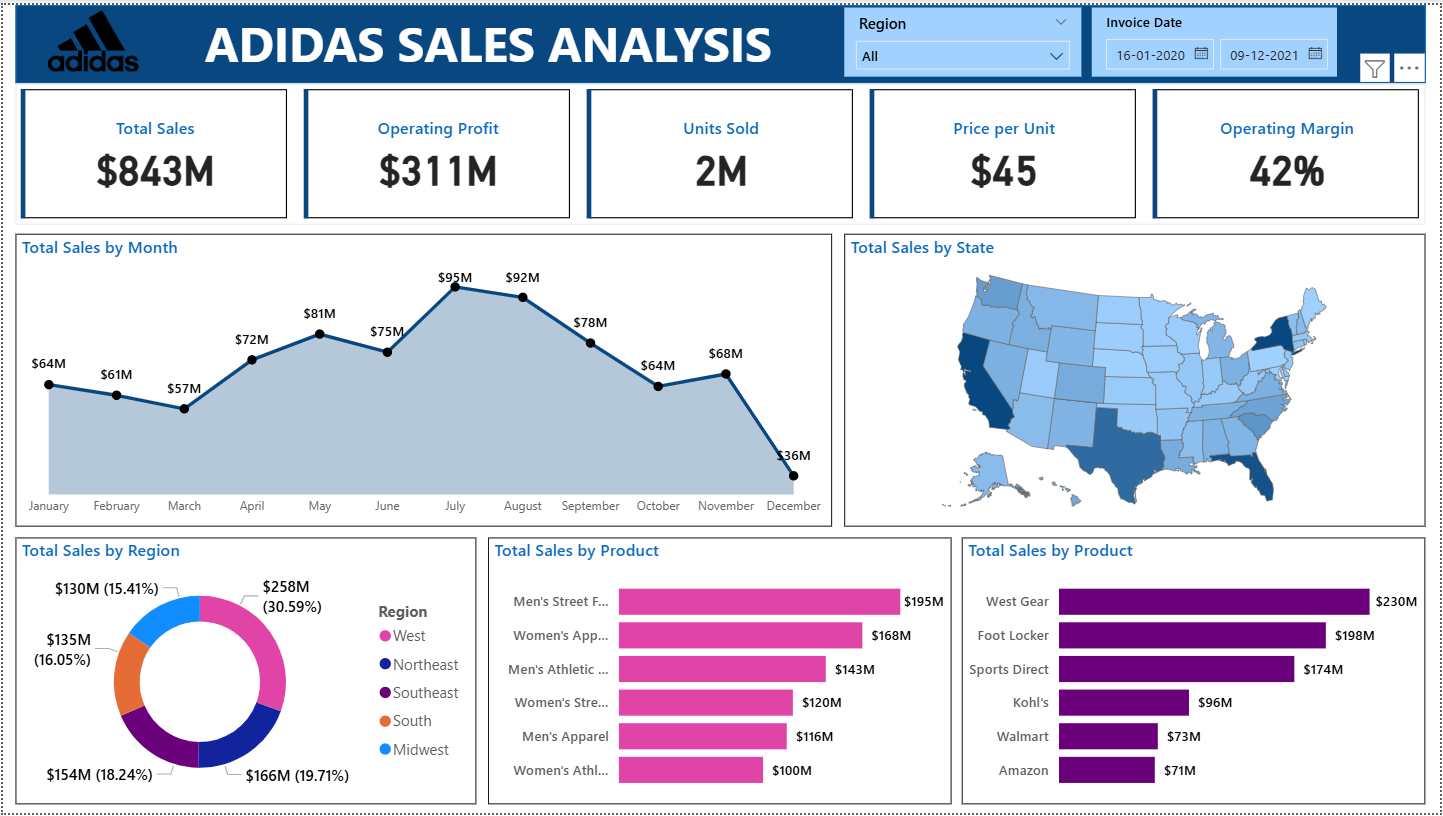

Layout of this report page (visuals, bound fields, positions):
{"tool":"powerbi","page":{"name":"Page 1","canvas":[1280,720],"ordinal":0},"visuals":[{"type":"shape","box":[10.9,0,1255.9,70],"z":0},{"type":"textbox","box":[170.1,0,523.6,67.6],"z":1000},{"type":"cardVisual","fields":{"Data":["Sum(Data Sales Adidas.Total Sales)","Sum(Data Sales Adidas.Operating Profit)","Sum(Data Sales Adidas.Units Sold)","Avg(Data Sales Adidas.Price per Unit)","Avg(Data Sales Adidas.Operating Margin)"]},"box":[10.9,70,1255.9,125.5],"z":2000},{"type":"areaChart","title":"Total Sales by Month","fields":{"Category":["Data Sales Adidas.Invoice Date.Variation.Date Hierarchy.Month"],"Y":["Sum(Data Sales Adidas.Total Sales)"]},"box":[10.9,203.9,727.5,260.6],"z":3000},{"type":"shapeMap","title":"Total Sales by State","fields":{"Category":["Data Sales Adidas.State"],"Value":["Sum(Data Sales Adidas.Total Sales)"]},"box":[749.2,203.9,517.6,260.6],"z":4000},{"type":"donutChart","title":"Total Sales by Region","fields":{"Category":["Data Sales Adidas.Region"],"Y":["Sum(Data Sales Adidas.Total Sales)"]},"box":[10.9,474.1,410.2,237.7],"z":5000},{"type":"barChart","title":"Total Sales by Product","fields":{"Category":["Data Sales Adidas.Product"],"Y":["Sum(Data Sales Adidas.Total Sales)"]},"box":[431.9,474.1,412.6,237.7],"z":6000},{"type":"barChart","title":"Total Sales by Product","fields":{"Y":["Sum(Data Sales Adidas.Total Sales)"],"Category":["Data Sales Adidas.Retailer"]},"box":[854.2,474.1,412.6,237.7],"z":7000},{"type":"slicer","fields":{"Values":["Data Sales Adidas.Region"]},"box":[749.2,2.4,211.1,61.5],"z":8000},{"type":"slicer","fields":{"Values":["Data Sales Adidas.Invoice Date"]},"box":[970,2.4,218.4,61.5],"z":9000},{"type":"image","box":[10.9,0,138.7,63.9],"z":10000}]}

Visuals, with their boxes in screenshot pixels (x1, y1, x2, y2), scaled from the page's 1280x720 canvas onto the 1443x816 screenshot:
shape: bbox=[12, 0, 1428, 79]
textbox: bbox=[192, 0, 782, 77]
cardVisual - Sum(Data Sales Adidas.Total Sales) x Sum(Data Sales Adidas.Operating Profit): bbox=[12, 79, 1428, 222]
"Total Sales by Month" areaChart: bbox=[12, 231, 832, 526]
"Total Sales by State" shapeMap: bbox=[845, 231, 1428, 526]
"Total Sales by Region" donutChart: bbox=[12, 537, 475, 807]
"Total Sales by Product" barChart: bbox=[487, 537, 952, 807]
"Total Sales by Product" barChart: bbox=[963, 537, 1428, 807]
slicer - Data Sales Adidas.Region: bbox=[845, 3, 1083, 72]
slicer - Data Sales Adidas.Invoice Date: bbox=[1094, 3, 1340, 72]
image: bbox=[12, 0, 169, 72]
